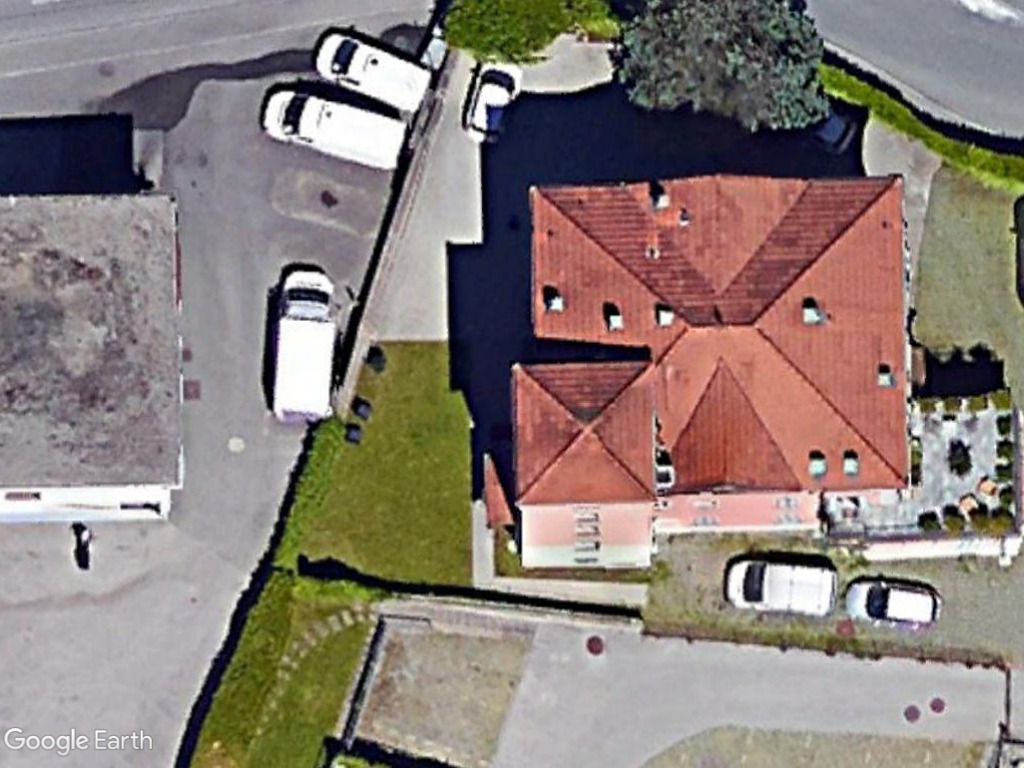car: (841, 574, 946, 633)
van: (258, 83, 411, 173), (262, 265, 340, 428), (313, 29, 436, 120), (720, 552, 840, 618)
